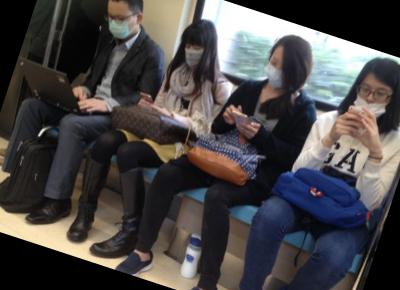mask_weared_incorrect: (351, 78, 393, 121)
with_mask: (98, 6, 142, 43), (260, 51, 293, 92), (178, 38, 210, 71)
